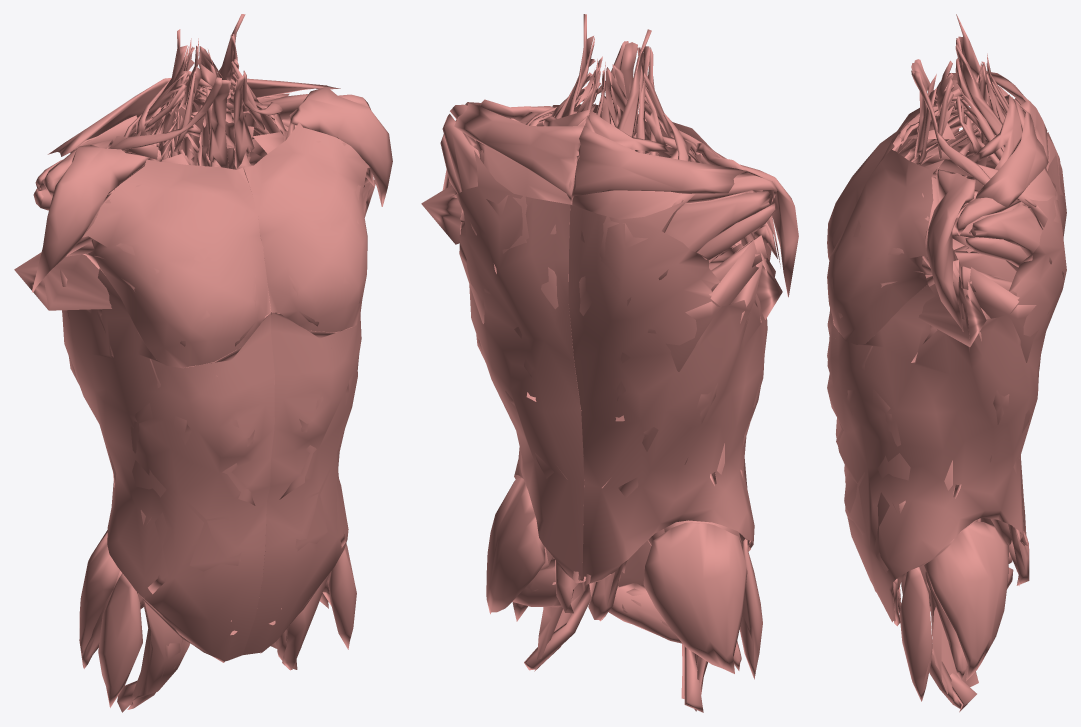
File: lod1-torso-muscle.glb
The picture shows the model from 3 angles, left to right: view 1: azimuth 30°, elevation 25°; view 2: azimuth 150°, elevation 25°; view 3: azimuth 270°, elevation 25°; orthographic projection. The views are drawn at different scales.
Parts seen in each view (by area): view 1: part::Investing abdominal fascia.r, part::Pectoral fascia.r, part::Investing abdominal fascia.l, part::Pectoral fascia.l, part::Clavicular part of deltoid muscle.r, part::Clavicular part of deltoid muscle.l, part::External abdominal oblique muscle.r, part::Tensor fasciae latae.r, part::Clavipectoral fascia.r, part::Gluteus medius muscle.r, part::Iliopsoas fascia.r, part::Tensor fasciae latae.l (+13 smaller); view 2: part::Investing abdominal fascia.r, part::Investing abdominal fascia.l, part::Gluteus medius muscle.r, part::Transverse part of trapezius muscle.r, part::Transverse part of trapezius muscle.l, part::Gluteus medius muscle.l, part::Latissimus dorsi muscle.r, part::Descending part of trapezius muscle.r, part::Descending part of trapezius muscle.l, part::Infraspinatus muscle.r, part::Clavicular part of deltoid muscle.r, part::Piriformis fascia.r (+21 smaller); view 3: part::Investing abdominal fascia.l, part::Pectoral fascia.l, part::Gluteus medius muscle.l, part::Clavicular part of deltoid muscle.l, part::Tensor fasciae latae.l, part::Transverse part of trapezius muscle.l, part::Latissimus dorsi muscle.l, part::External abdominal oblique muscle.l, part::Clavipectoral fascia.l, part::Pectoral fascia.r, part::Infraspinatus muscle.l, part::Serratus anterior muscle.l (+27 smaller).
Boxes of the visible parts, <box> form: part::Investing abdominal fascia.r: <box>62,151,274,660</box>; part::Pectoral fascia.r: <box>82,159,270,368</box>; part::Investing abdominal fascia.l: <box>243,313,361,654</box>; part::Pectoral fascia.l: <box>244,122,369,332</box>; part::Clavicular part of deltoid muscle.r: <box>32,145,149,292</box>; part::Clavicular part of deltoid muscle.l: <box>289,86,392,206</box>; part::External abdominal oblique muscle.r: <box>108,359,255,635</box>; part::Tensor fasciae latae.r: <box>98,573,142,707</box>; part::Clavipectoral fascia.r: <box>14,153,190,310</box>; part::Gluteus medius muscle.r: <box>79,530,119,667</box>; part::Iliopsoas fascia.r: <box>132,603,189,700</box>; part::Tensor fasciae latae.l: <box>328,543,356,649</box>; part::Investing abdominal fascia.r: <box>568,201,767,583</box>; part::Investing abdominal fascia.l: <box>450,150,584,581</box>; part::Gluteus medius muscle.r: <box>643,522,747,673</box>; part::Transverse part of trapezius muscle.r: <box>571,125,746,203</box>; part::Transverse part of trapezius muscle.l: <box>454,103,585,203</box>; part::Gluteus medius muscle.l: <box>486,478,545,614</box>; part::Latissimus dorsi muscle.r: <box>583,240,766,581</box>; part::Descending part of trapezius muscle.r: <box>572,180,695,315</box>; part::Descending part of trapezius muscle.l: <box>475,140,580,408</box>; part::Infraspinatus muscle.r: <box>658,191,773,279</box>; part::Clavicular part of deltoid muscle.r: <box>696,143,798,297</box>; part::Piriformis fascia.r: <box>608,582,682,643</box>; part::Investing abdominal fascia.l: <box>827,181,1066,622</box>; part::Pectoral fascia.l: <box>827,147,933,344</box>; part::Gluteus medius muscle.l: <box>924,522,1008,680</box>; part::Clavicular part of deltoid muscle.l: <box>926,169,975,331</box>; part::Tensor fasciae latae.l: <box>899,567,932,701</box>; part::Transverse part of trapezius muscle.l: <box>975,106,1048,207</box>; part::Latissimus dorsi muscle.l: <box>962,267,1050,539</box>; part::External abdominal oblique muscle.l: <box>827,335,952,592</box>; part::Clavipectoral fascia.l: <box>918,160,986,346</box>; part::Pectoral fascia.r: <box>827,108,919,259</box>; part::Infraspinatus muscle.l: <box>969,204,1051,264</box>; part::Serratus anterior muscle.l: <box>911,159,1024,362</box>.
Bounding box in the file's own units: 0.4332 × 0.7657 × 0.259.
